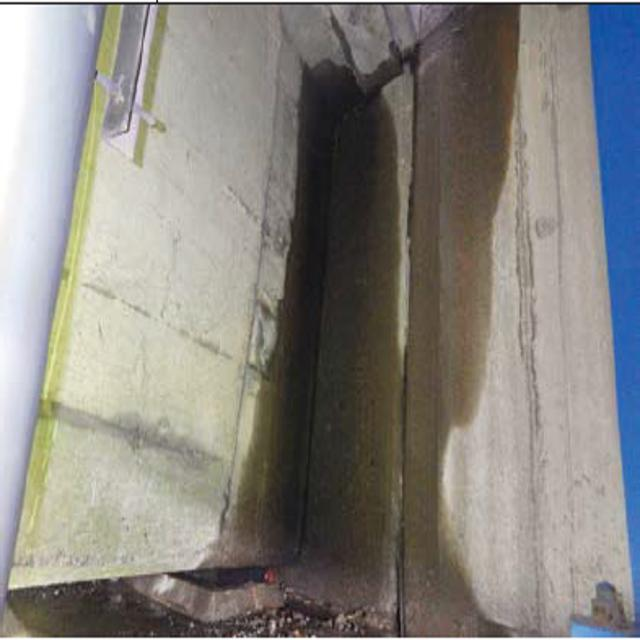leakage: (253, 42, 511, 627)
